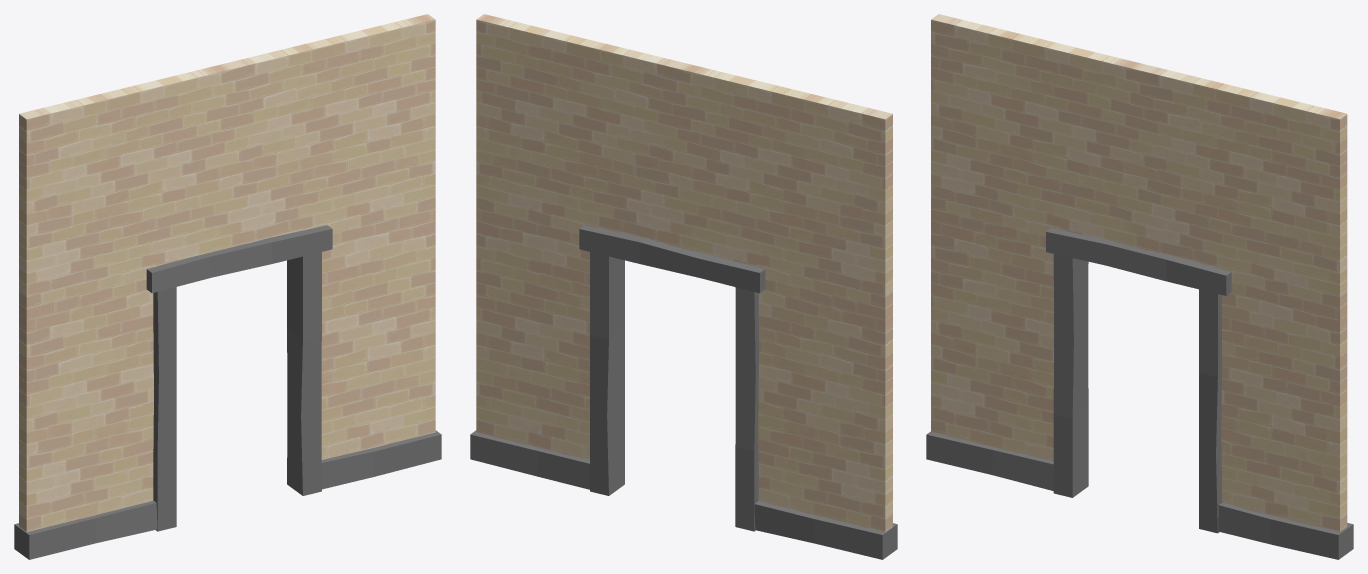
Rendered from SM_wall_door_02.fbx.
3 views of the same model, side by side, from view 1: azimuth 30°, elevation 25°; view 2: azimuth 150°, elevation 25°; view 3: azimuth 330°, elevation 25° (orthographic).
Parts seen in each view (by area): view 1: Plane220; view 2: Plane220; view 3: Plane220.
Part boxes in pixels (x1=…): Plane220: x1=14, y1=14, x2=441, y2=559; Plane220: x1=470, y1=14, x2=897, y2=559; Plane220: x1=926, y1=14, x2=1353, y2=559.
Bounding box in the file's own units: 169 × 172 × 13.64.
